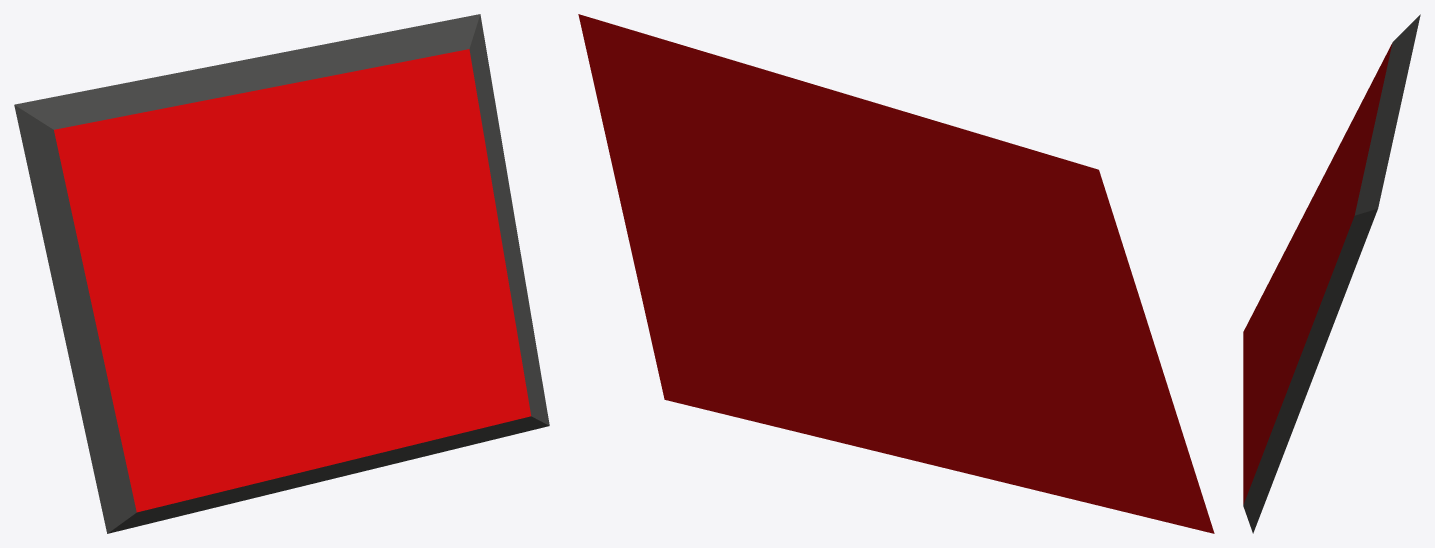
The model's file is luzCuadrada.fbx.
3 views of the same model, side by side, from view 1: azimuth 30°, elevation 25°; view 2: azimuth 150°, elevation 25°; view 3: azimuth 270°, elevation 25° (orthographic). The views are drawn at different scales.
Parts seen in each view (by area): view 1: Plane.003; view 2: Plane.003; view 3: Plane.003.
Boxes of the visible parts, left/top/right/bottom form: Plane.003: left=14, top=14, right=549, bottom=533; Plane.003: left=578, top=14, right=1214, bottom=533; Plane.003: left=1243, top=14, right=1420, bottom=533.
Bounding box in the file's own units: 41.73 × 32.54 × 16.1.
